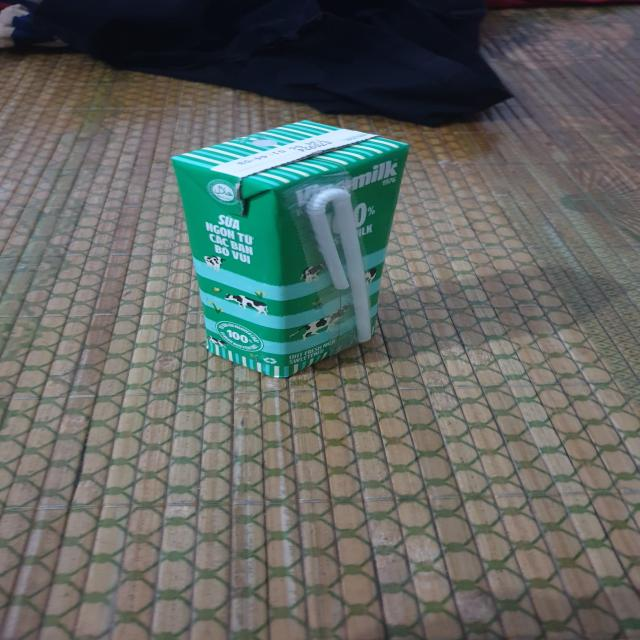Vina: (165, 118, 422, 383)
